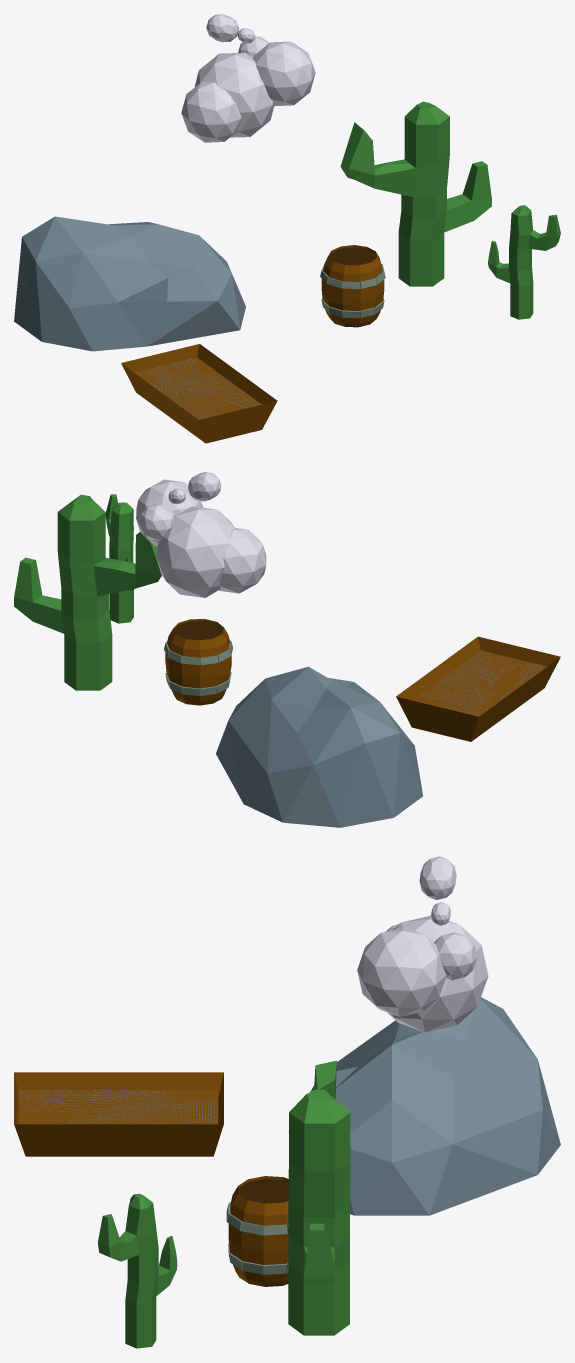
File: testasssets.fbx
The picture shows the model from 3 angles, top to bottom: view 1: azimuth 30°, elevation 25°; view 2: azimuth 150°, elevation 25°; view 3: azimuth 270°, elevation 25°; orthographic projection. The views are drawn at different scales.
Parts seen in each view (by area): view 1: Icosphere, Cylinder, Icosphere.004, Cube, Cylinder.001, Cylinder.002; view 2: Icosphere, Cylinder, Icosphere.004, Cube, Cylinder.001, Cylinder.002; view 3: Icosphere, Cube, Cylinder, Icosphere.004, Cylinder.002, Cylinder.001.
Part boxes in pixels (x1=…): Icosphere: x1=14, y1=216, x2=245, y2=351; Cylinder: x1=340, y1=101, x2=491, y2=286; Icosphere.004: x1=181, y1=14, x2=315, y2=142; Cube: x1=121, y1=344, x2=277, y2=443; Cylinder.001: x1=320, y1=245, x2=385, y2=327; Cylinder.002: x1=488, y1=205, x2=560, y2=319; Icosphere: x1=216, y1=666, x2=422, y2=827; Cylinder: x1=14, y1=494, x2=161, y2=690; Icosphere.004: x1=136, y1=472, x2=266, y2=597; Cube: x1=396, y1=636, x2=560, y2=741; Cylinder.001: x1=164, y1=619, x2=232, y2=705; Cylinder.002: x1=105, y1=494, x2=134, y2=623; Icosphere: x1=288, y1=997, x2=560, y2=1215; Cube: x1=14, y1=1072, x2=223, y2=1156; Cylinder: x1=288, y1=1060, x2=350, y2=1335; Icosphere.004: x1=357, y1=856, x2=488, y2=1032; Cylinder.002: x1=98, y1=1193, x2=177, y2=1348; Cylinder.001: x1=226, y1=1176, x2=288, y2=1286.
Bounding box in the file's own units: 1505 × 958 × 1279.
